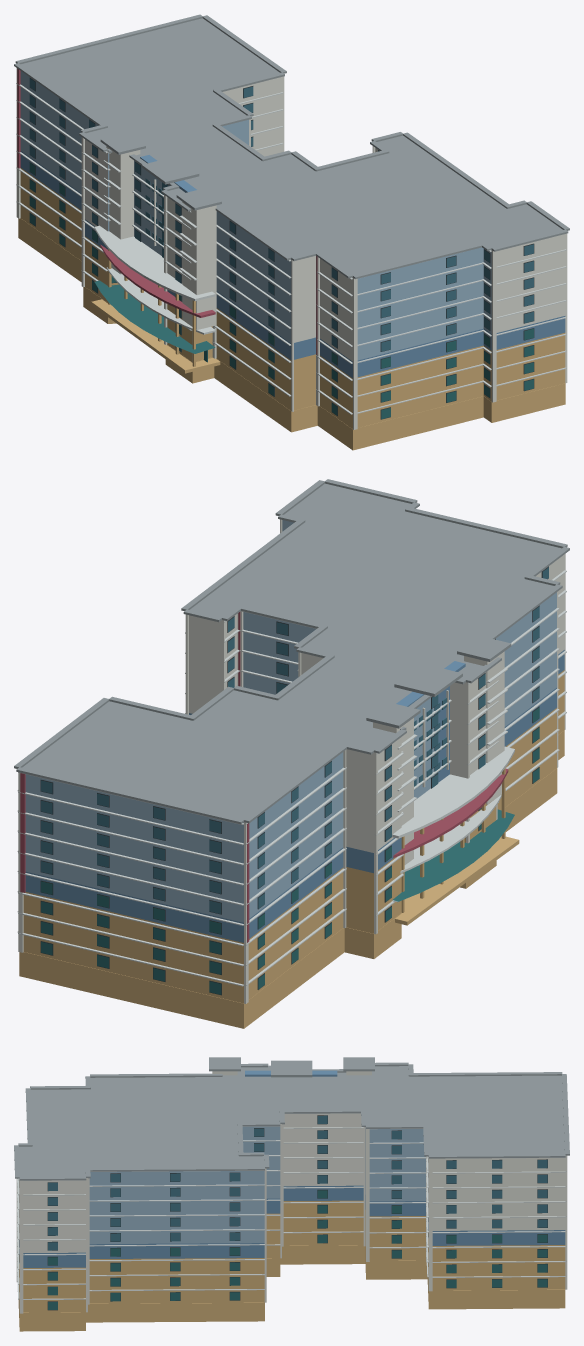
File: mjiit_lod2.glb
3 renders of one model, top to bottom at view 1: azimuth 30°, elevation 25°; view 2: azimuth 150°, elevation 25°; view 3: azimuth 270°, elevation 25°, orthographic. The views are drawn at different scales.
Parts seen in each view (by area): view 1: Roof, WarmBase, PaintCream, PaintBlue, Sunshade, DarkBlue, GlassGreen, GlassDusk, Recess, RedAccent; view 2: Roof, WarmBase, PaintBlue, PaintCream, Sunshade, DarkBlue, GlassDusk, GlassGreen, Recess, RedAccent; view 3: Roof, WarmBase, PaintCream, PaintBlue, Sunshade, DarkBlue, GlassDusk, GlassGreen, Recess.
Boxes of the visible parts, x1,y1,x2,y2 form: Roof: (14, 14, 569, 279); WarmBase: (18, 168, 565, 450); PaintCream: (16, 68, 567, 429); PaintBlue: (20, 71, 491, 360); Sunshade: (16, 83, 566, 414); DarkBlue: (20, 151, 565, 378); GlassGreen: (29, 163, 533, 419); GlassDusk: (29, 78, 533, 351); Recess: (29, 77, 534, 419); RedAccent: (17, 68, 317, 354); Roof: (14, 479, 569, 824); WarmBase: (19, 670, 564, 1028); PaintBlue: (25, 520, 556, 922); PaintCream: (18, 519, 565, 1003); Sunshade: (17, 570, 566, 986); DarkBlue: (25, 650, 564, 942); GlassDusk: (41, 567, 548, 913); GlassGreen: (41, 707, 539, 994); Recess: (40, 566, 548, 995); RedAccent: (20, 612, 508, 942); Roof: (14, 1057, 569, 1180); WarmBase: (18, 1200, 565, 1331); PaintCream: (16, 1071, 567, 1313); PaintBlue: (89, 1126, 425, 1244); Sunshade: (17, 1113, 567, 1299); DarkBlue: (19, 1070, 565, 1267); GlassDusk: (48, 1115, 547, 1250); GlassGreen: (48, 1190, 547, 1309); Recess: (47, 1115, 547, 1310).
Bounding box in the file's own units: 61.33 × 37.49 × 118.
